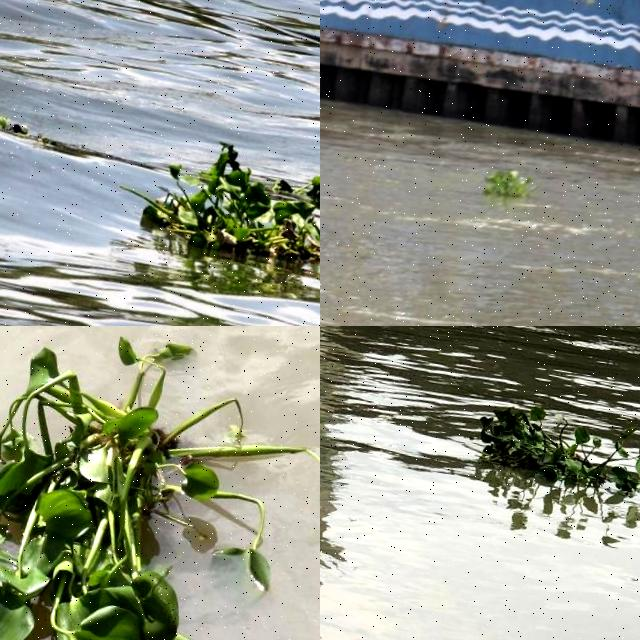water-hyacinth: (1, 327, 321, 640), (146, 128, 321, 283), (468, 384, 640, 520), (477, 162, 544, 208)
